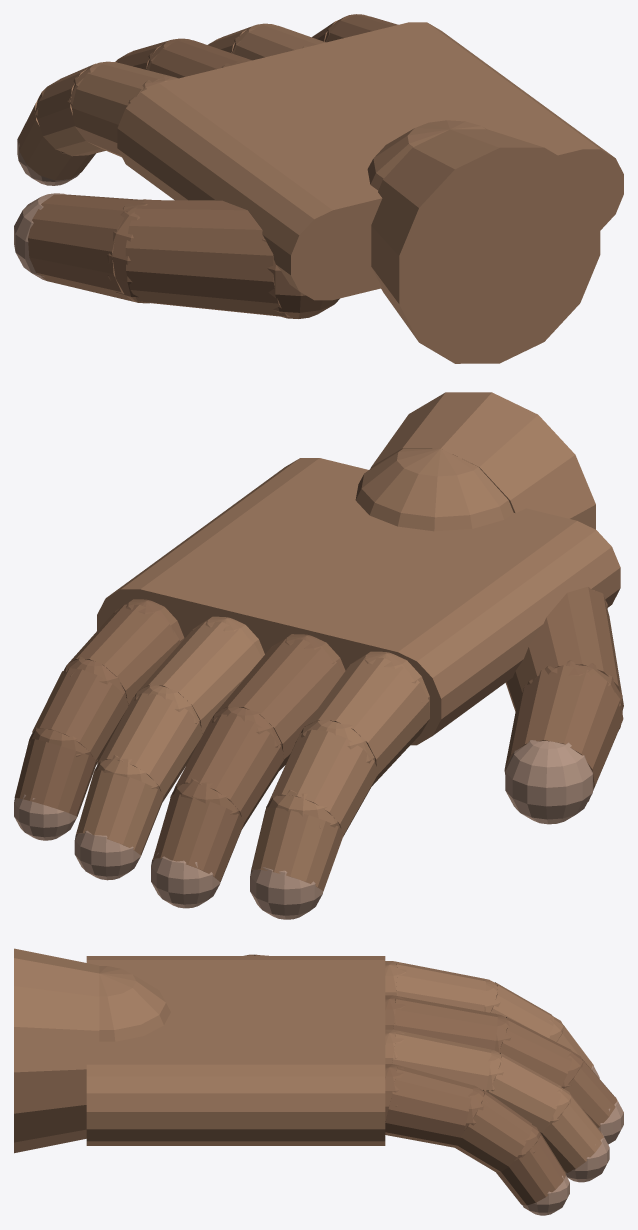
File: hand_open_right.glb
The picture shows the model from 3 angles, top to bottom: view 1: azimuth 30°, elevation 25°; view 2: azimuth 150°, elevation 25°; view 3: azimuth 270°, elevation 25°; orthographic projection. The views are drawn at different scales.
Parts seen in each view (by area): view 1: hand_open_right; view 2: hand_open_right; view 3: hand_open_right.
Boxes of the visible parts, x1,y1,x2,y2 form: hand_open_right: (14,14,623,363); hand_open_right: (14,392,623,919); hand_open_right: (14,948,623,1215).
Size of the model in its own units: 0.1053 by 0.0535 by 0.143.
